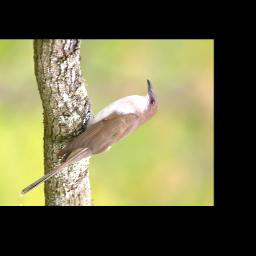Cuckoo: (18, 74, 160, 200)
